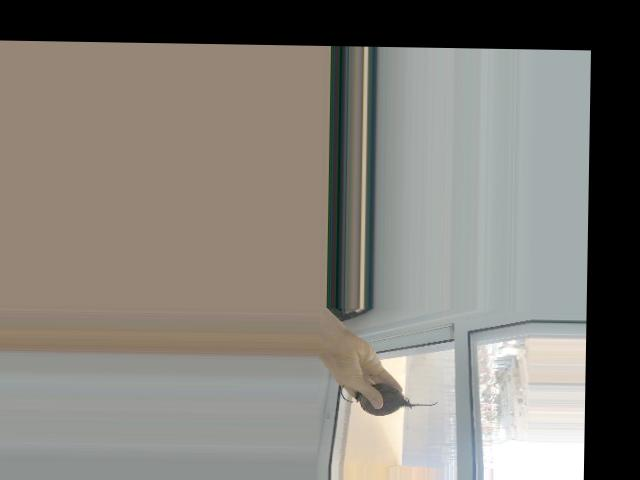beet: (340, 373, 438, 416)
